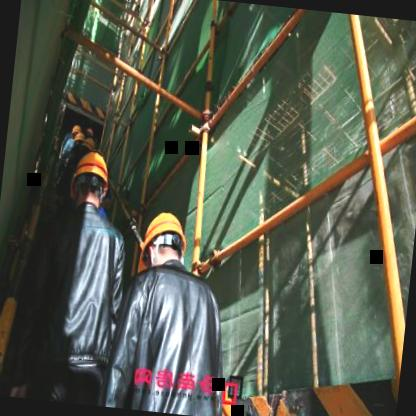helmet: (135, 202, 189, 281), (66, 147, 118, 221), (70, 130, 85, 148)
